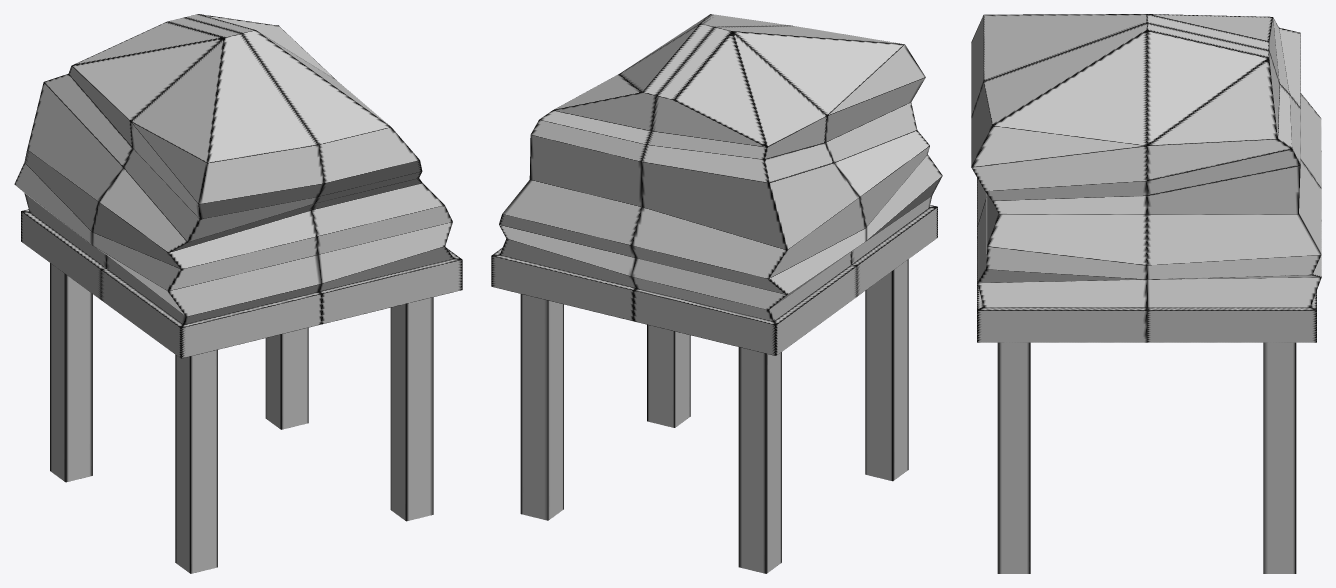
Rendered from stologtøj.fbx.
3 views of the same model, side by side, from view 1: azimuth 30°, elevation 25°; view 2: azimuth 150°, elevation 25°; view 3: azimuth 270°, elevation 25° (orthographic). The views are drawn at different scales.
Visible parts, largest first — view 1: Cube; view 2: Cube; view 3: Cube.
Part boxes in pixels (bbox=[...]): Cube: bbox=[14, 14, 462, 573]; Cube: bbox=[491, 14, 942, 573]; Cube: bbox=[971, 14, 1321, 573].
Bounding box in the file's own units: 268 × 406 × 264.
